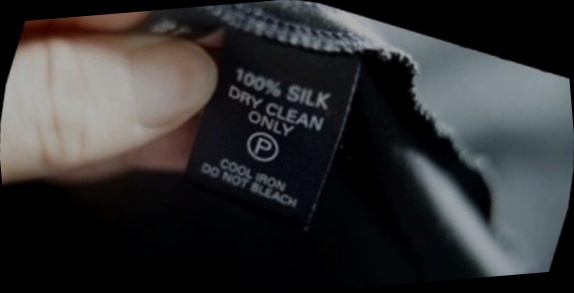dry_clean_any_solvent_except_trichloroethylene: (239, 123, 289, 170)
